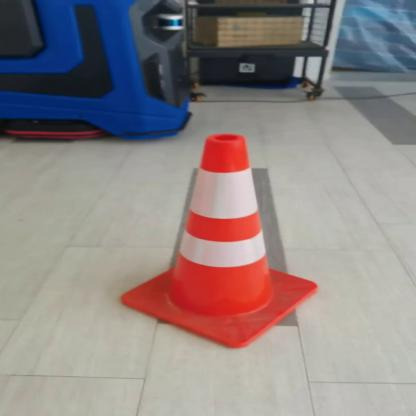cone: (119, 132, 327, 354)
